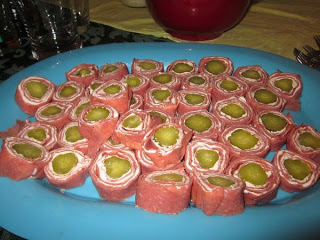cheese: (188, 108, 236, 143), (100, 150, 144, 182)
